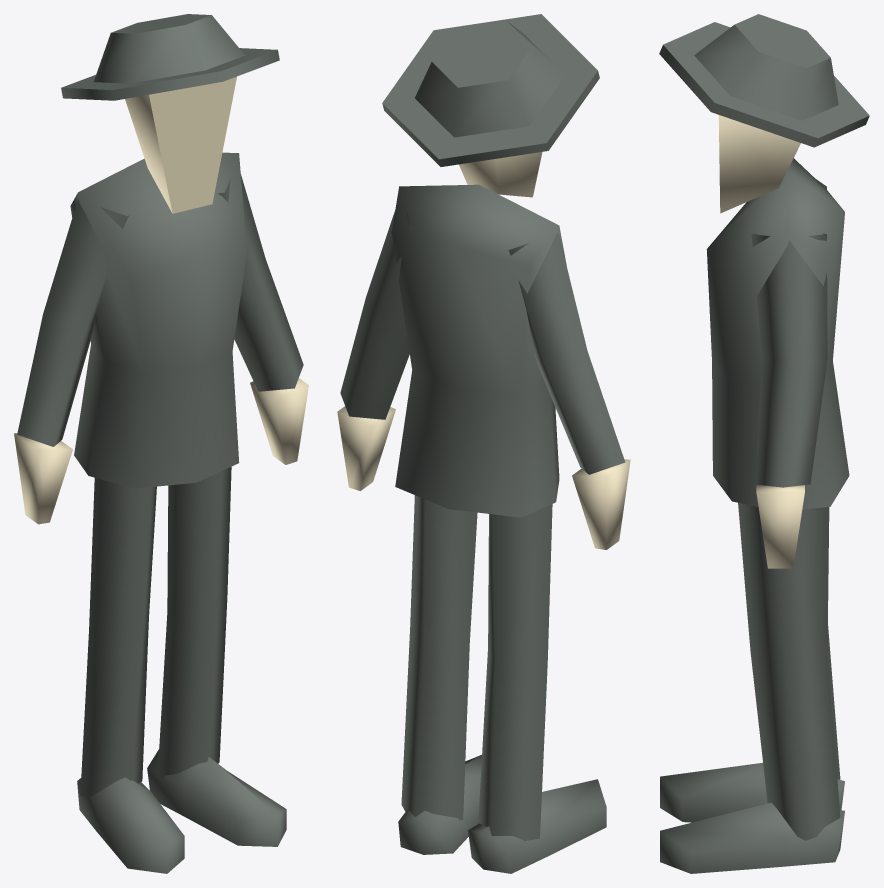
The model's file is mesh_NormalPerson_b.fbx.
3 views of the same model, side by side, from view 1: azimuth 30°, elevation 25°; view 2: azimuth 150°, elevation 25°; view 3: azimuth 270°, elevation 25° (orthographic).
Visible parts, largest first — view 1: mesh_OswiecimPassengerMan.003; view 2: mesh_OswiecimPassengerMan.003; view 3: mesh_OswiecimPassengerMan.003.
Part boxes in pixels (x1,y1,x2,y2): mesh_OswiecimPassengerMan.003: (14, 14, 308, 873); mesh_OswiecimPassengerMan.003: (337, 14, 630, 873); mesh_OswiecimPassengerMan.003: (659, 14, 869, 873).
Size of the model in its own units: 36.83 by 99.26 by 23.38.
